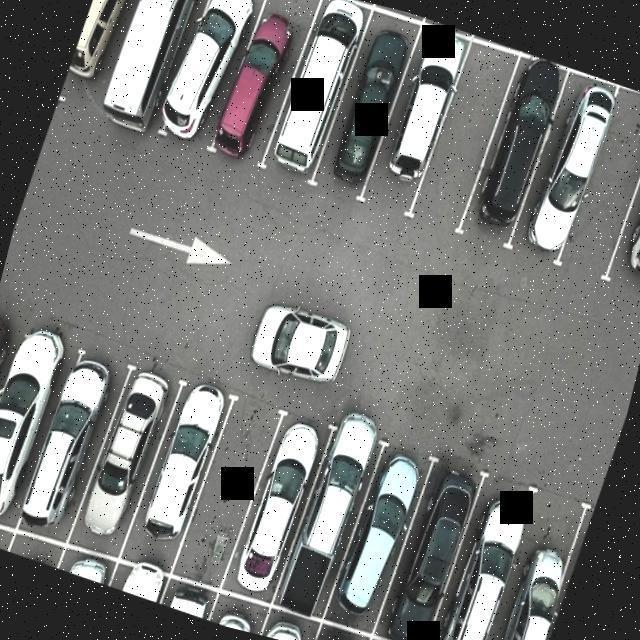car: (66, 359, 185, 563), (268, 422, 384, 631), (116, 373, 234, 577), (319, 435, 436, 640), (369, 450, 490, 640), (456, 52, 568, 255), (16, 346, 130, 544), (306, 4, 416, 208), (360, 22, 470, 225), (502, 74, 616, 268), (223, 409, 331, 607), (425, 460, 539, 640), (259, 0, 369, 185), (208, 0, 320, 173), (156, 0, 269, 160), (480, 486, 589, 640), (0, 329, 81, 532), (108, 0, 217, 134), (57, 0, 164, 118), (603, 97, 640, 298), (0, 323, 22, 522)
free: (170, 388, 285, 593), (406, 35, 516, 242), (556, 80, 640, 279)
